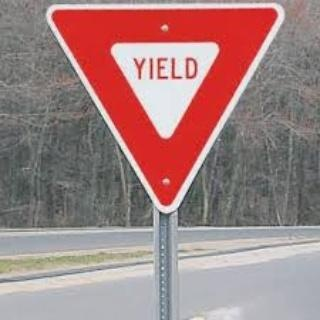sign_yield: (41, 5, 288, 214)
